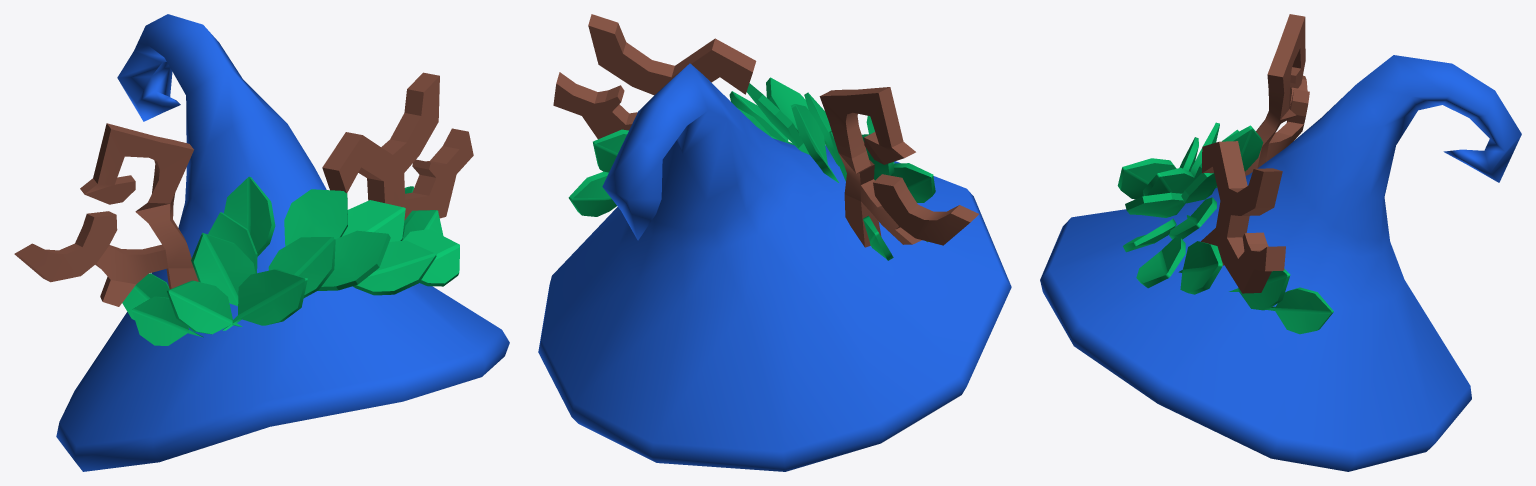
The model's file is Headgear_15.fbx.
3 renders of one model, left to right at view 1: azimuth 30°, elevation 25°; view 2: azimuth 150°, elevation 25°; view 3: azimuth 270°, elevation 25°, orthographic. The views are drawn at different scales.
Visible parts, largest first — view 1: Headgear_15; view 2: Headgear_15; view 3: Headgear_15.
Boxes of the visible parts, x1,y1,x2,y2 form: Headgear_15: (14, 14, 509, 471); Headgear_15: (538, 14, 1011, 471); Headgear_15: (1040, 14, 1521, 471).
Bounding box in the file's own units: 107 × 87.12 × 107.
